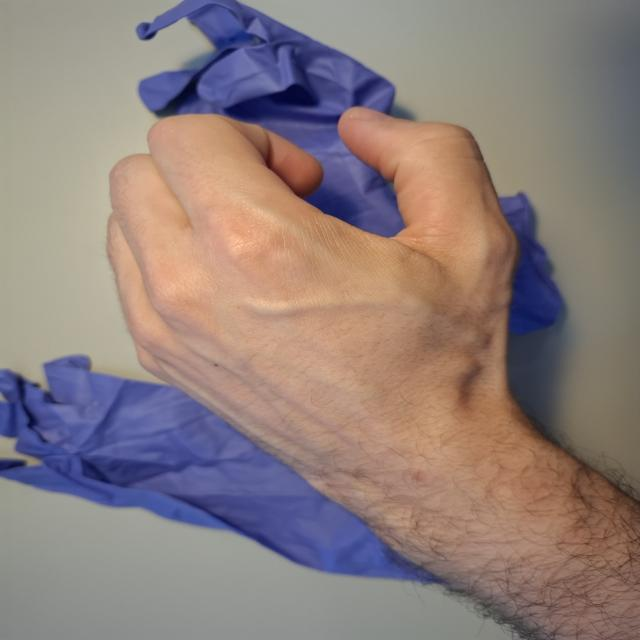glove_off: (100, 102, 522, 522)
